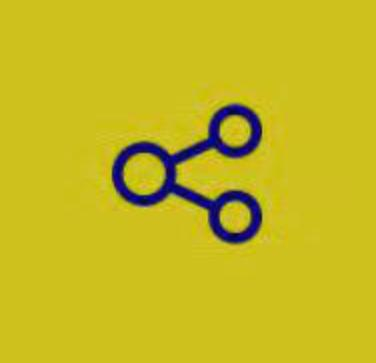ImgButton: (1, 1, 375, 362)
